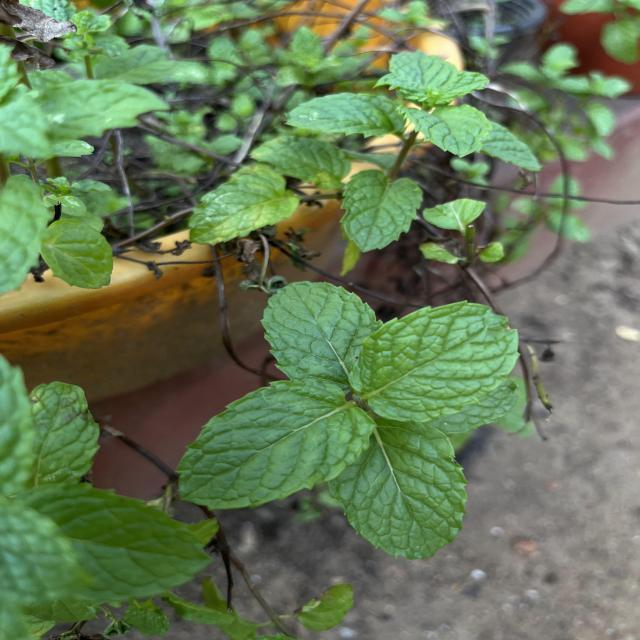Mentha spicata: (173, 376, 378, 512), (346, 298, 522, 424), (326, 423, 470, 561), (258, 280, 384, 380), (340, 168, 424, 254)
